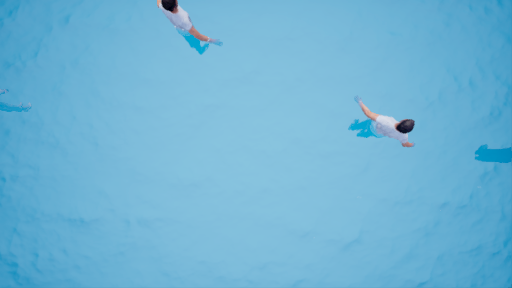person: (343, 93, 425, 156), (138, 2, 229, 56)
